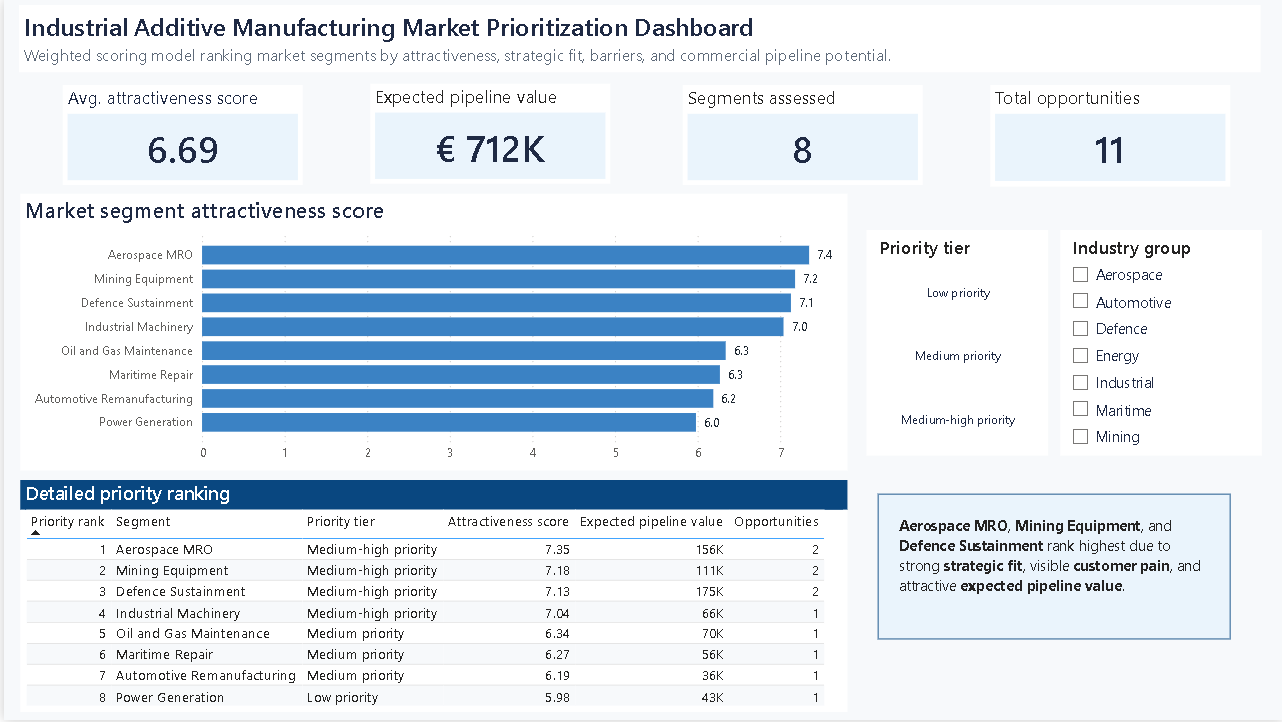

This screenshot's page, from the dashboard's own definition file:
{"tool":"powerbi","page":{"name":"Page 1","canvas":[1280,720],"ordinal":0},"visuals":[{"type":"clusteredBarChart","title":"Market segment attractiveness score","fields":{"Category":["market_prioritization_scores.segment_name"],"Y":["Sum(market_prioritization_scores.attractiveness_score)"]},"box":[15.7,193.6,827.1,277.1],"z":0},{"type":"cardVisual","title":"Avg. attractiveness score","fields":{"Data":["Avg(market_prioritization_scores.attractiveness_score)"]},"box":[59,85.1,240.1,100.2],"z":1000},{"type":"cardVisual","title":"Expected pipeline value","fields":{"Data":["Sum(market_prioritization_scores.expected_pipeline_value_eur)"]},"box":[366.4,83.7,240.1,100.2],"z":2000},{"type":"cardVisual","title":"Total opportunities","fields":{"Data":["Sum(market_prioritization_scores.opportunity_count)"]},"box":[986.6,85.1,240.1,101.5],"z":3000},{"type":"cardVisual","title":"Segments assessed","fields":{"Data":["Count(market_prioritization_scores.segment_name)"]},"box":[679.2,85.1,240.1,100.2],"z":4000},{"type":"tableEx","title":"Detailed priority ranking","fields":{"Values":["Sum(market_prioritization_scores.priority_rank)","Min(market_prioritization_scores.segment_name)","Min(market_prioritization_scores.priority_tier)","Sum(market_prioritization_scores.attractiveness_score)","Sum(market_prioritization_scores.expected_pipeline_value_eur)","Sum(market_prioritization_scores.opportunity_count)"]},"box":[16,480,827,232],"z":5000},{"type":"slicer","fields":{"Values":["market_prioritization_scores.industry_group"]},"box":[1055.7,229.7,201.4,225.7],"z":6000},{"type":"slicer","fields":{"Values":["market_prioritization_scores.priority_tier"]},"box":[862.9,229.7,181.4,225.7],"z":7000},{"type":"textbox","box":[15.5,5.5,1241.8,67.3],"z":8000},{"type":"textbox","box":[874.3,494.3,352.9,145.7],"z":9000}]}

Visuals, with their boxes in screenshot pixels (x1, y1, x2, y2), scaled from the page's 1280x720 canvas onto the 1282x722 screenshot:
"Market segment attractiveness score" clusteredBarChart: <region>16, 194, 844, 472</region>
"Avg. attractiveness score" cardVisual: <region>59, 85, 300, 186</region>
"Expected pipeline value" cardVisual: <region>367, 84, 607, 184</region>
"Total opportunities" cardVisual: <region>988, 85, 1229, 187</region>
"Segments assessed" cardVisual: <region>680, 85, 921, 186</region>
"Detailed priority ranking" tableEx: <region>16, 481, 844, 714</region>
slicer - market_prioritization_scores.industry_group: <region>1057, 230, 1259, 457</region>
slicer - market_prioritization_scores.priority_tier: <region>864, 230, 1046, 457</region>
textbox: <region>16, 6, 1259, 73</region>
textbox: <region>876, 496, 1229, 642</region>
